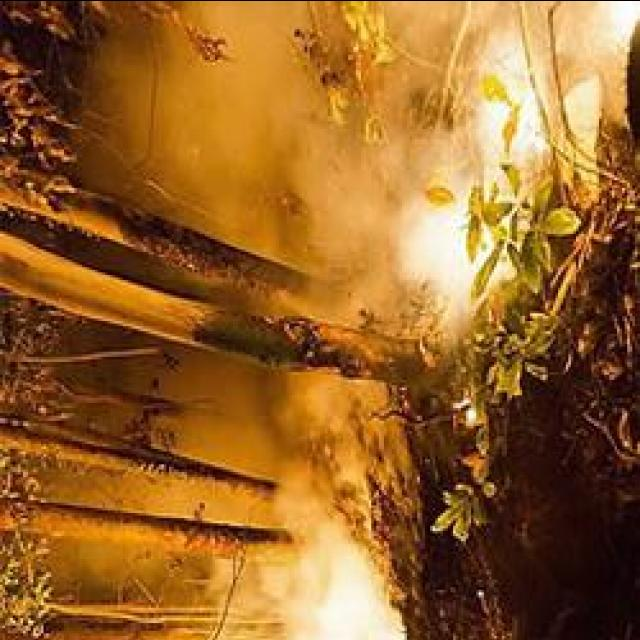fire: (246, 568, 390, 638), (408, 207, 472, 295)
smoke: (296, 124, 420, 302), (160, 74, 326, 185), (370, 0, 480, 102), (279, 474, 315, 528)
